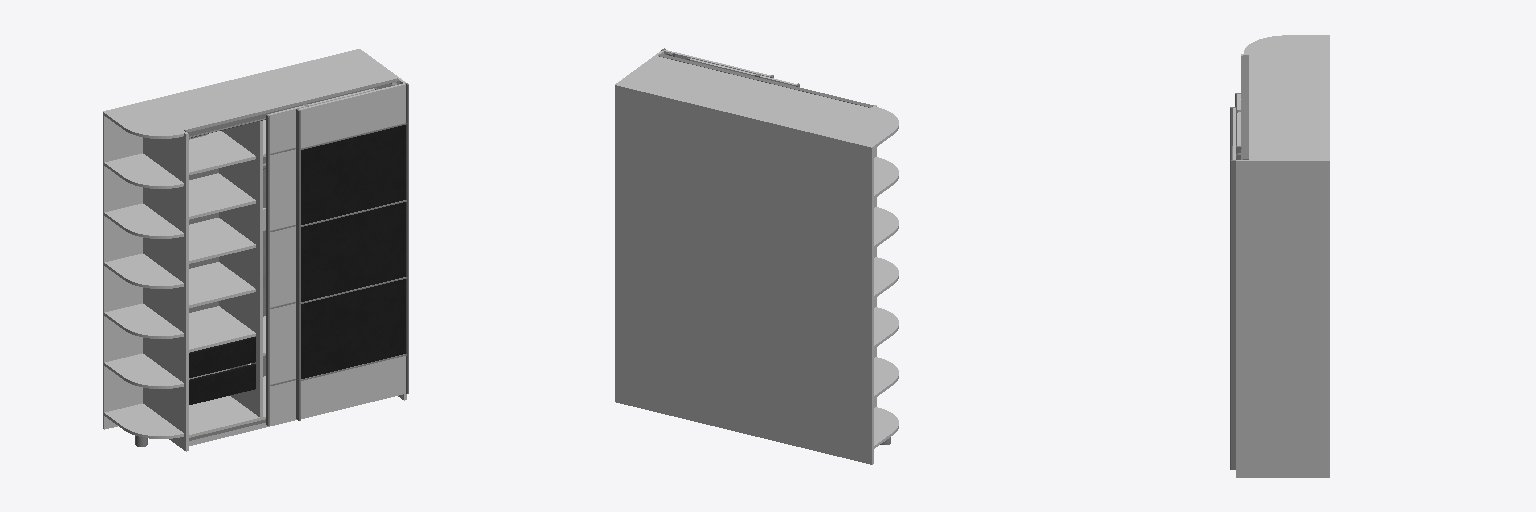
3 views of the same model, side by side, from view 1: azimuth 30°, elevation 25°; view 2: azimuth 150°, elevation 25°; view 3: azimuth 270°, elevation 25° (orthographic).
Parts seen in each view (by area): view 1: Wardrobe, WardrobeDoor2_WardrobeDoor2.002, WardrobeDoor1_WardrobeDoor1.002, WardrobeDrawer2_WardrobeDrawer, WardrobeDrawer1; view 2: Wardrobe; view 3: Wardrobe, WardrobeDoor2_WardrobeDoor2.002.
Part boxes in pixels (bbox=[...]): Wardrobe: bbox=[103, 49, 406, 451]; WardrobeDoor2_WardrobeDoor2.002: bbox=[296, 81, 408, 420]; WardrobeDoor1_WardrobeDoor1.002: bbox=[266, 88, 377, 425]; WardrobeDrawer2_WardrobeDrawer: bbox=[189, 363, 255, 404]; WardrobeDrawer1: bbox=[189, 337, 255, 377]; Wardrobe: bbox=[615, 51, 898, 464]; Wardrobe: bbox=[1236, 35, 1329, 477]; WardrobeDoor2_WardrobeDoor2.002: bbox=[1230, 107, 1241, 469].
Size of the model in its own units: 1.89 by 2.23 by 0.6283.
5 materials, 3 textured.